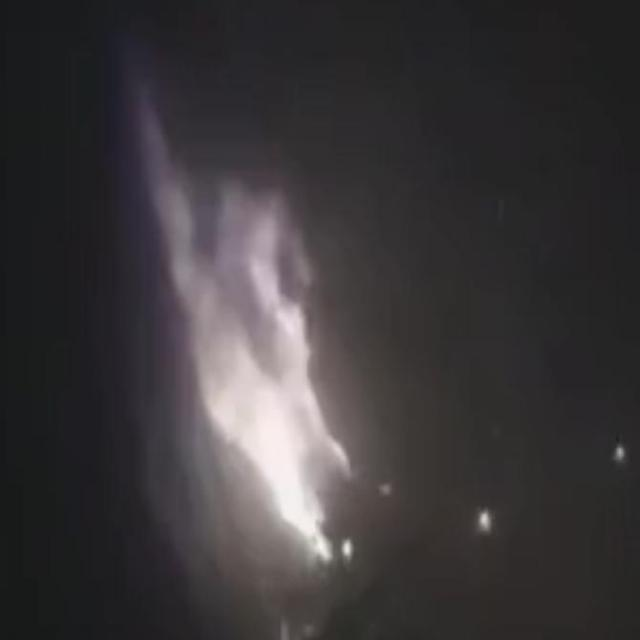smoke: (137, 100, 361, 568)
